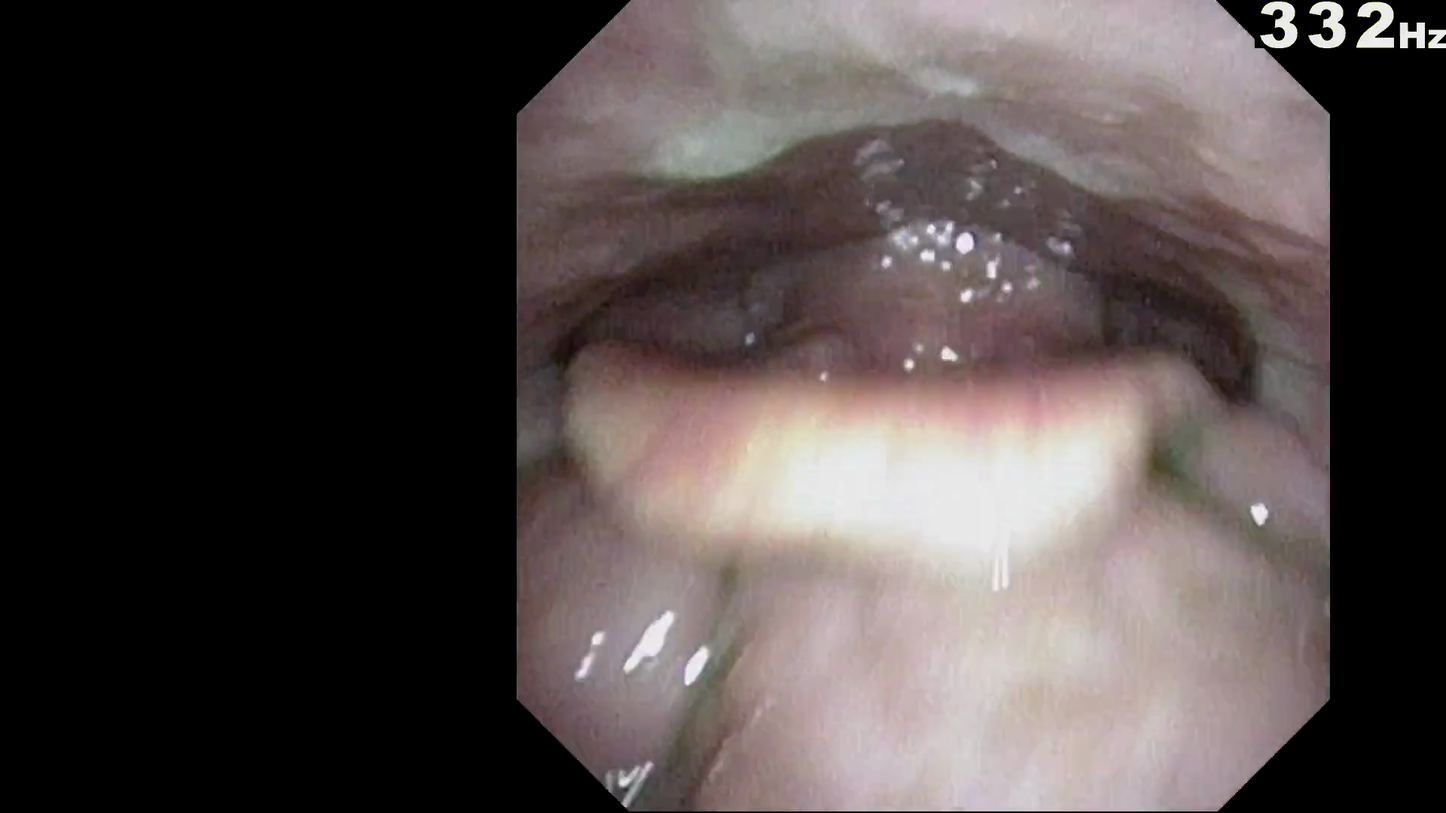epiglottis: (617, 301, 1229, 480)
